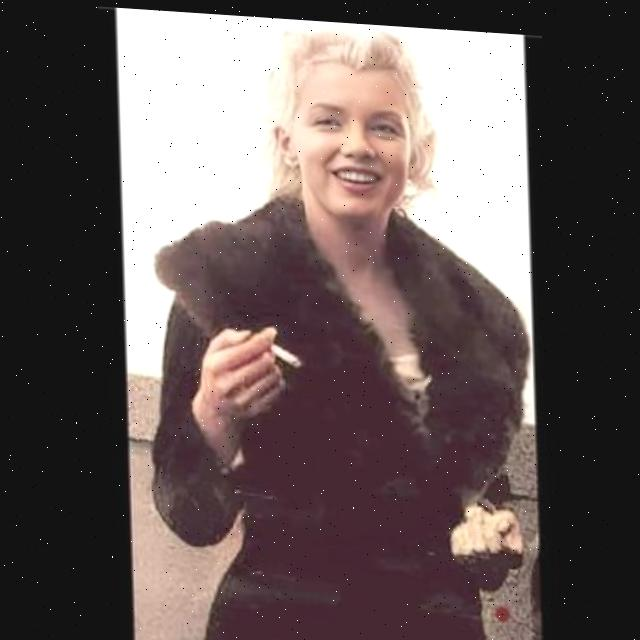cigarette: (269, 341, 299, 364)
